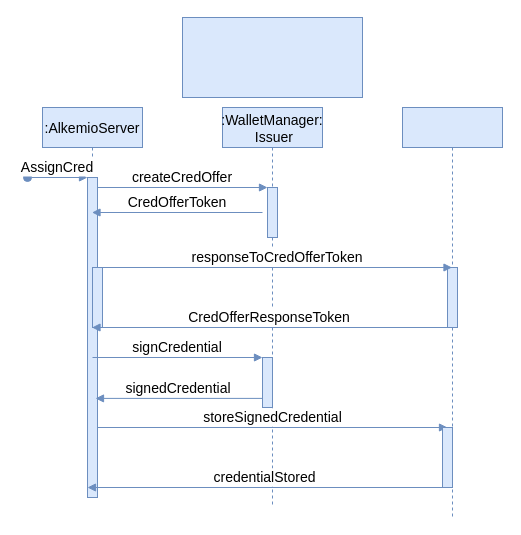
The diagram is 521 pixels wide and 535 high, and some of its shapes have lost their labels. Each missing label, with the centre of its shape:
:WalletManager: Holder: the point at 452,312
For now the trusted issuer: the point at 272,57
